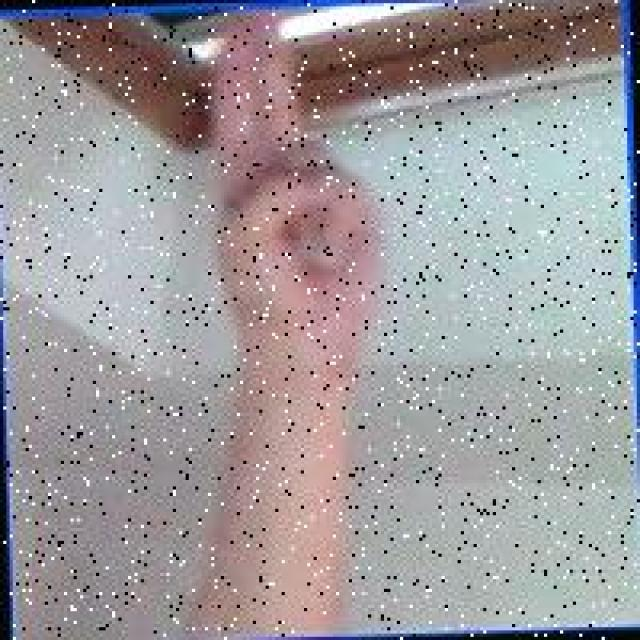U: (203, 3, 392, 346)
